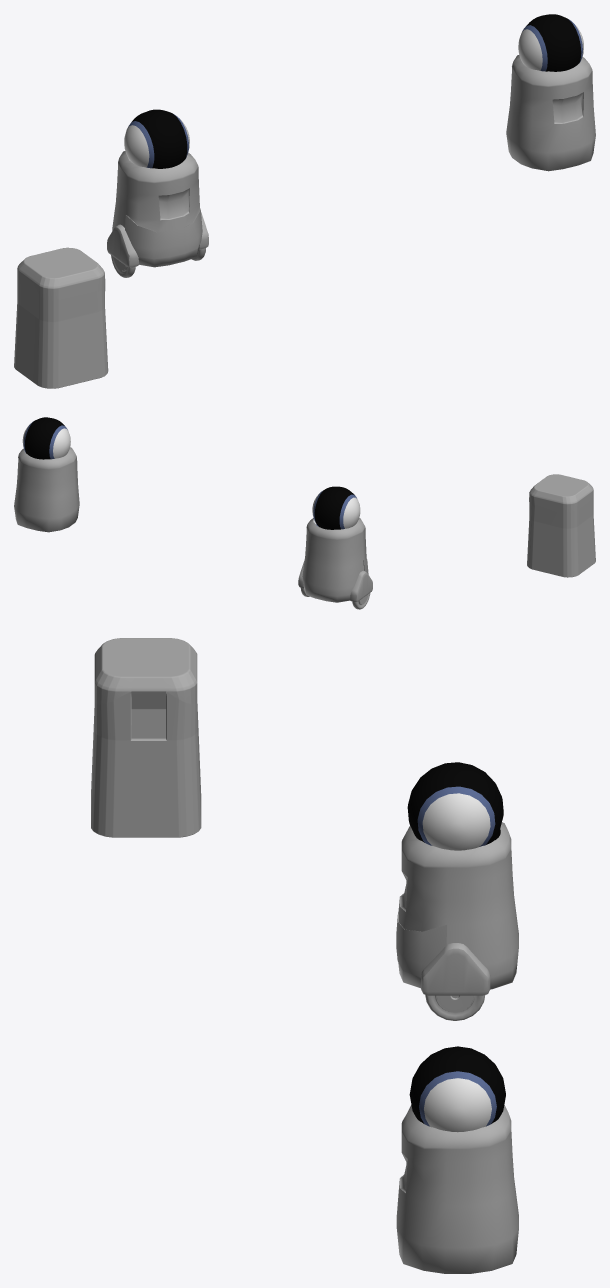
Rendered from exported robot.fbx.
3 views of the same model, one above another, from view 1: azimuth 30°, elevation 25°; view 2: azimuth 150°, elevation 25°; view 3: azimuth 270°, elevation 25° (orthographic). The views are drawn at different scales.
Parts seen in each view (by area): view 1: pCube1, pCube5, pCube7, pSphere3, pSphere2, pCube4; view 2: pCube1, pCube5, pCube7, pSphere3, pSphere2, pCube4; view 3: pCube1, pCube5, pCube7, pSphere3, pSphere2, pCube3, pCylinder3.
Part boxes in pixels (left/top/right/bottom): pCube1: left=14, top=247, right=108, bottom=388; pCube5: left=506, top=55, right=595, bottom=171; pCube7: left=112, top=151, right=202, bottom=267; pSphere3: left=124, top=109, right=189, bottom=168; pSphere2: left=518, top=14, right=583, bottom=71; pCube4: left=107, top=224, right=138, bottom=267; pCube1: left=527, top=474, right=595, bottom=577; pCube5: left=14, top=447, right=79, bottom=532; pCube7: left=302, top=518, right=368, bottom=602; pSphere3: left=312, top=486, right=360, bottom=529; pSphere2: left=22, top=417, right=70, bottom=459; pCube4: left=350, top=570, right=372, bottom=601; pCube1: left=91, top=638, right=201, bottom=837; pCube5: left=396, top=1105, right=518, bottom=1273; pCube7: left=396, top=822, right=518, bottom=989; pSphere3: left=407, top=762, right=503, bottom=850; pSphere2: left=409, top=1046, right=505, bottom=1132; pCube3: left=421, top=943, right=490, bottom=995; pCylinder3: left=425, top=995, right=485, bottom=1020.
Bounding box in the file's own units: 30.41 × 6.77 × 11.55.
